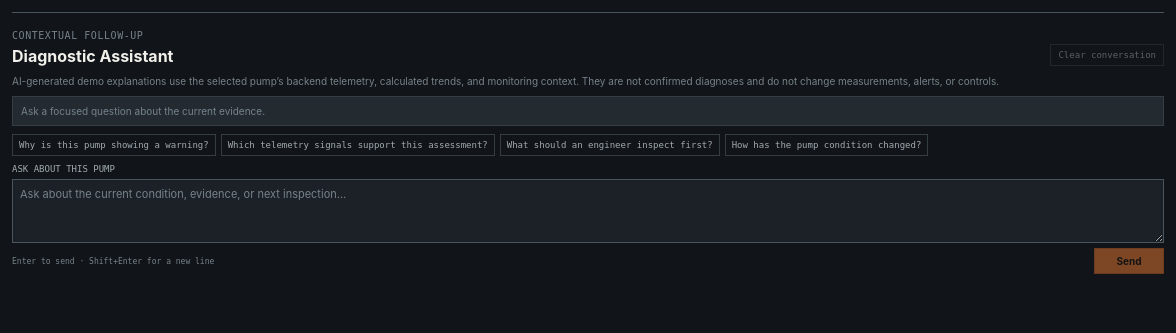
Scenario: DiagnosticChat › keeps the input editable when provider status is unavailable and reports send failures
Replace the text in the text box labelled "Ask about this pump" with "Can you inspect this pump?". click: point(588, 211)
box: [12, 179, 1164, 243]
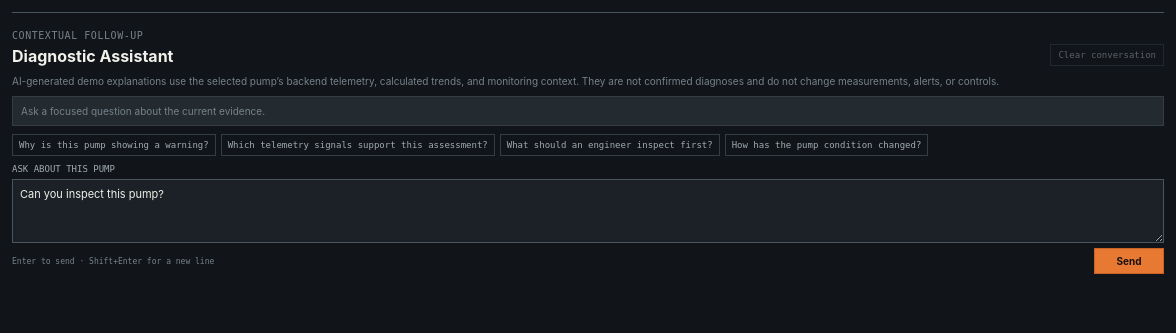
Press Enter in the text box labelled "Ask about this pump", box [12, 179, 1164, 243]
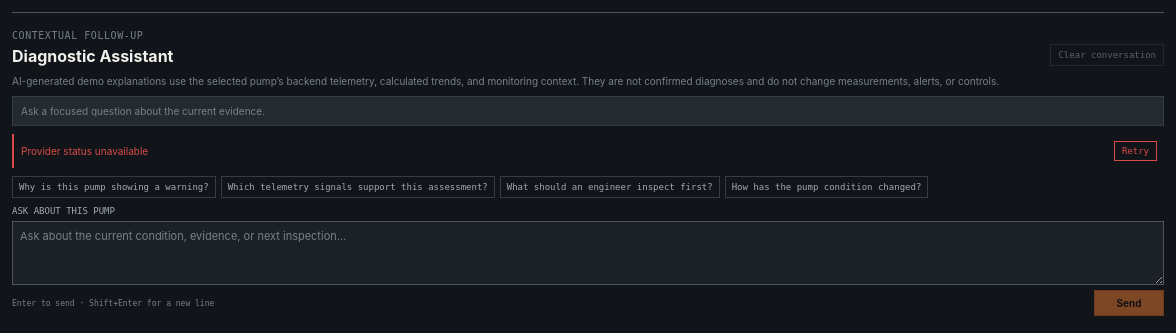
Check: the message shows "Provider status unavailable", box [21, 145, 148, 157]
